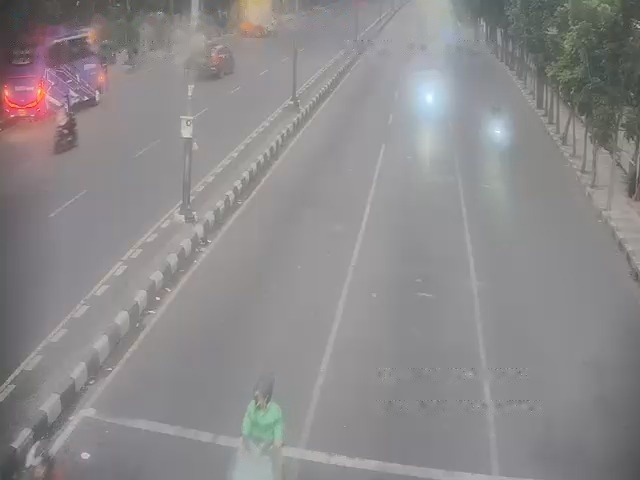Bis: (4, 24, 108, 121)
Motor: (413, 81, 445, 120), (487, 117, 508, 145), (49, 130, 71, 151)
